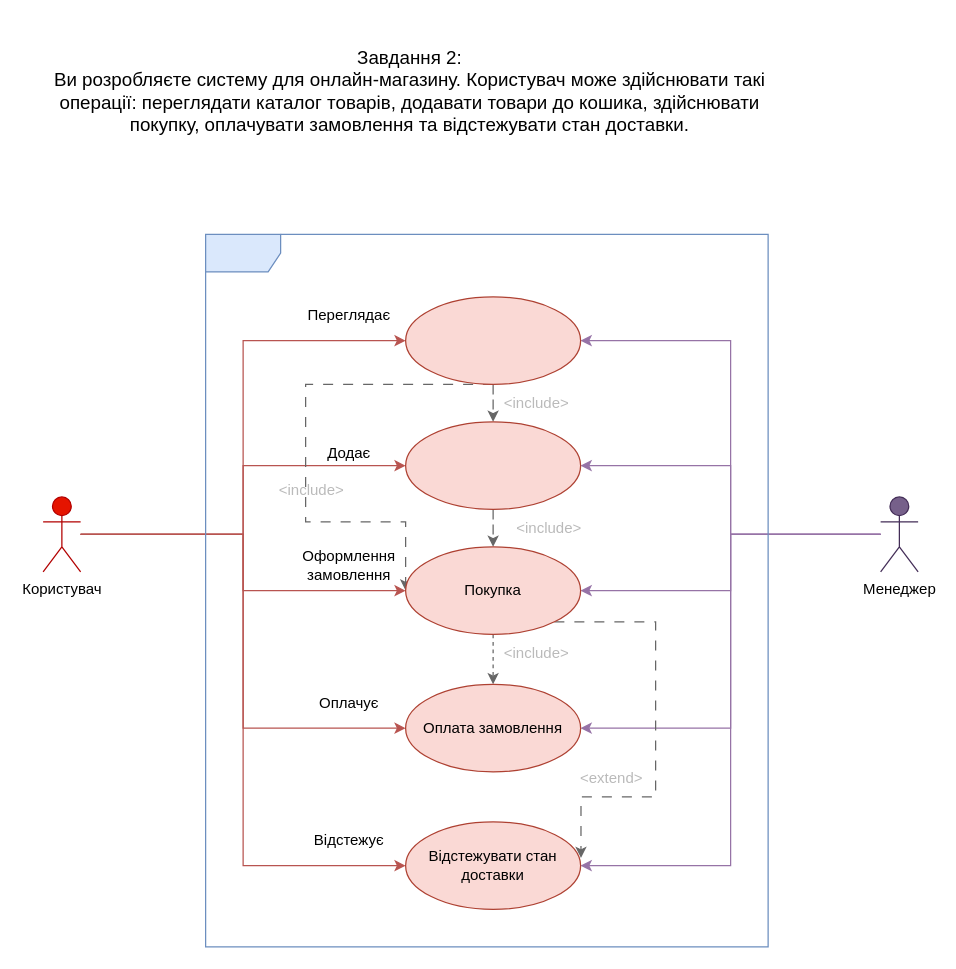
This 956x969 diagram has some shape labels left out. Here are the shapes that lost their labels. From the top down, the box of each, then its label:
(404, 296, 581, 384): Перегляд каталогу
(404, 421, 581, 509): Додавати в кошик
(204, 233, 768, 947): Магазин
